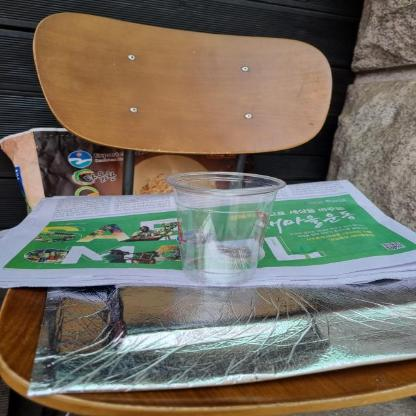Plastic Cup: (161, 168, 292, 288)
